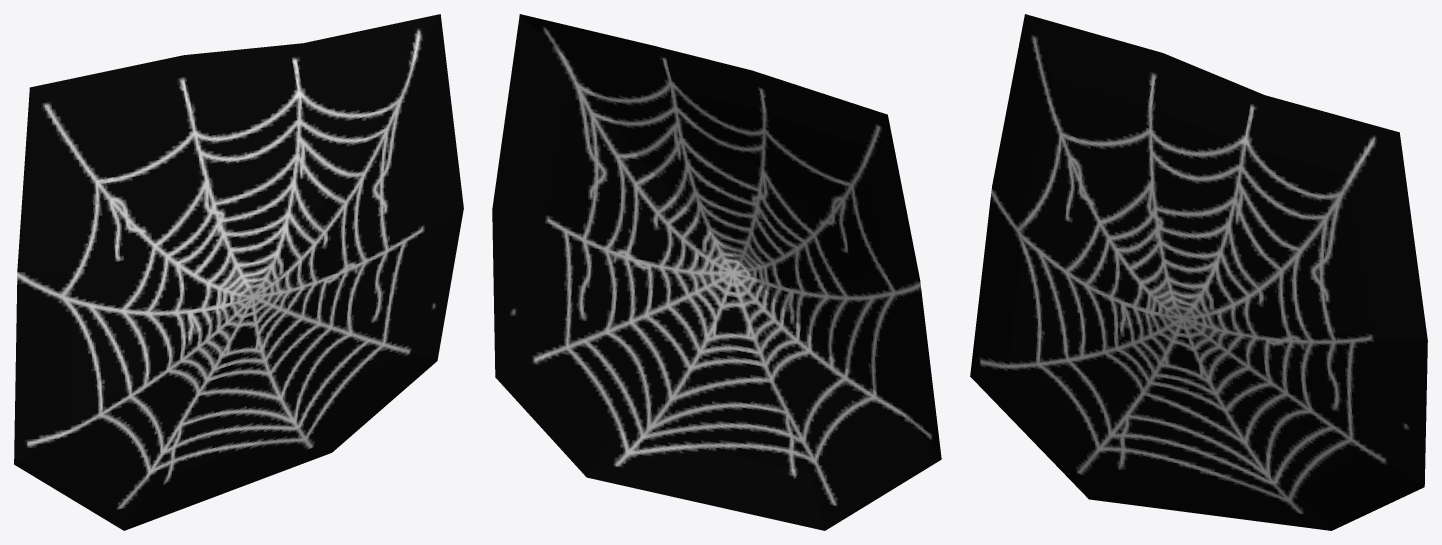
The model's file is SM_Cobwebs_05.fbx.
3 renders of one model, left to right at view 1: azimuth 30°, elevation 25°; view 2: azimuth 150°, elevation 25°; view 3: azimuth 330°, elevation 25°, orthographic.
Parts seen in each view (by area): view 1: SM_Cobwebs_05; view 2: SM_Cobwebs_05; view 3: SM_Cobwebs_05.
Part boxes in pixels (left/top/right/bottom): SM_Cobwebs_05: left=14, top=14, right=463, bottom=530; SM_Cobwebs_05: left=492, top=14, right=941, bottom=530; SM_Cobwebs_05: left=970, top=14, right=1427, bottom=530.
Size of the model in its own units: 88.45 by 84.95 by 12.24.
1 material, 1 textured.
